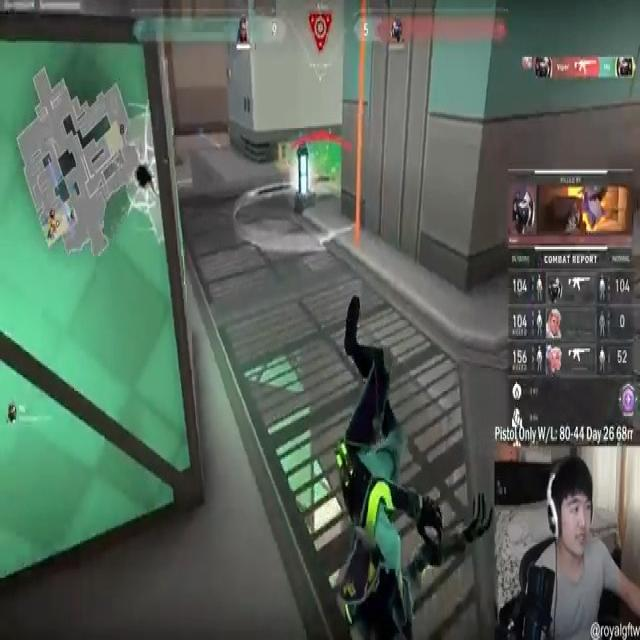spike-planted: (295, 142, 314, 218)
